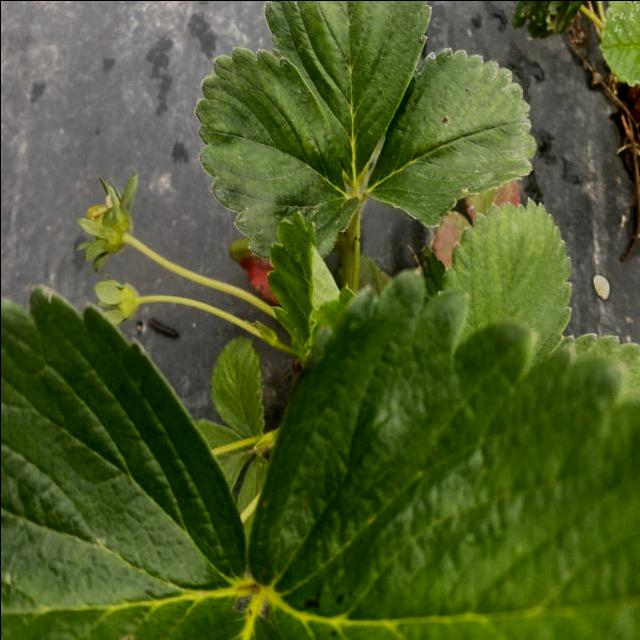flower: (5, 290, 640, 640), (183, 0, 538, 252), (76, 178, 144, 274)
